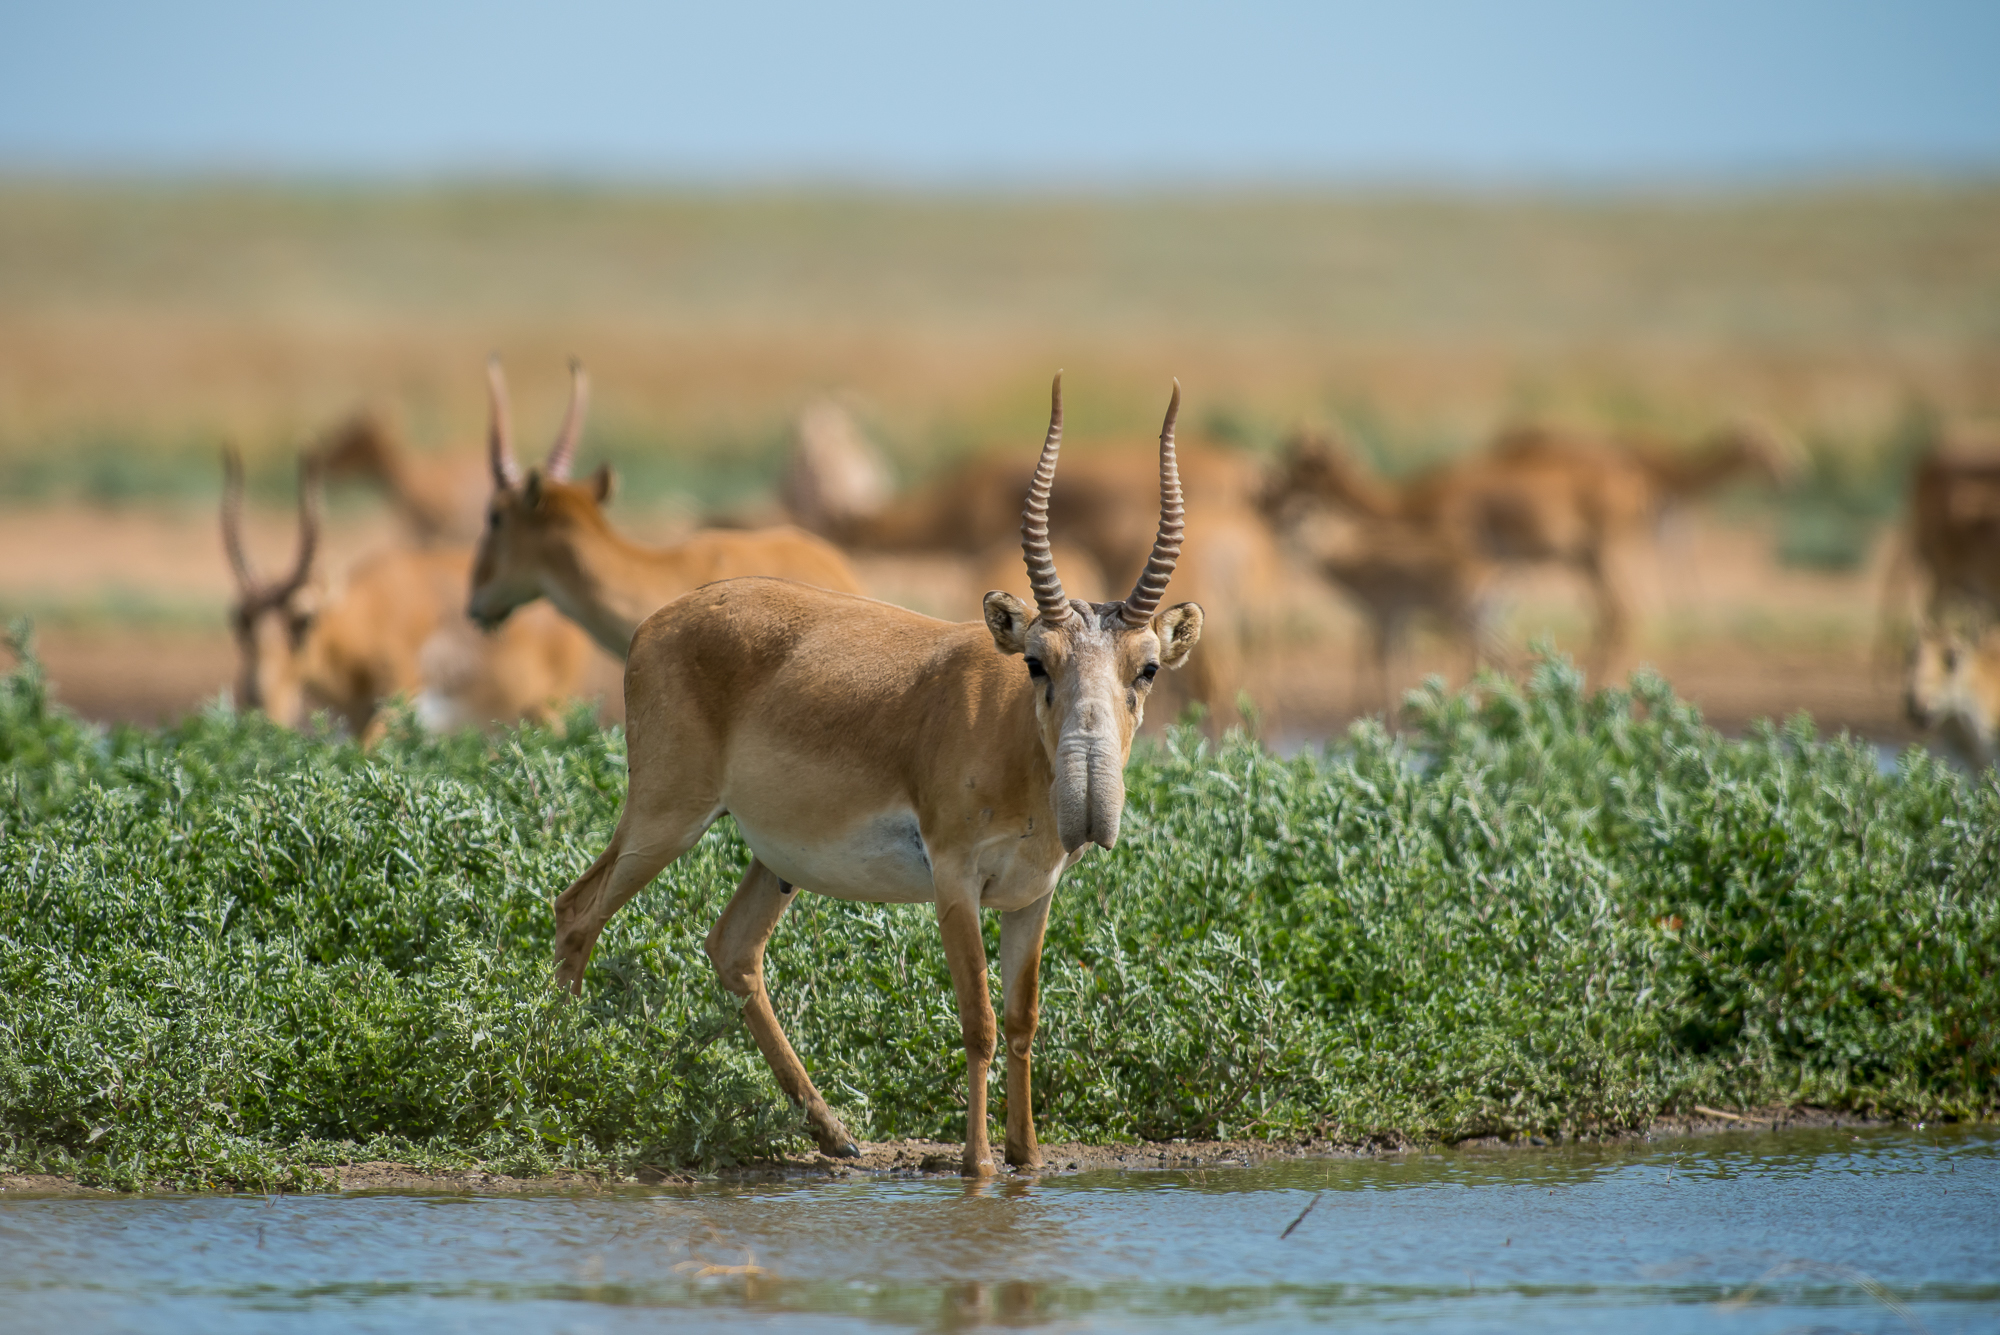saiga: (544, 370, 1209, 1192)
